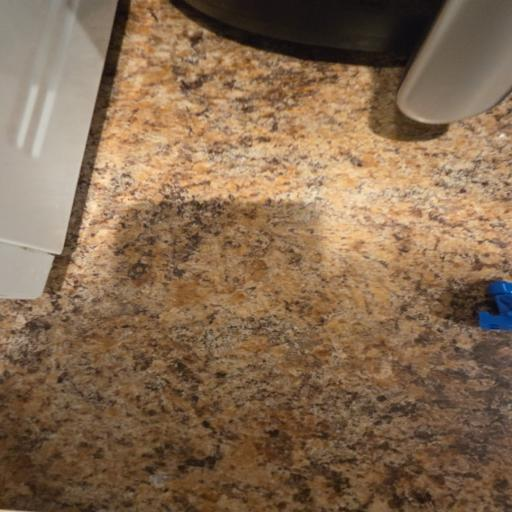Blue: (478, 281, 512, 330)
